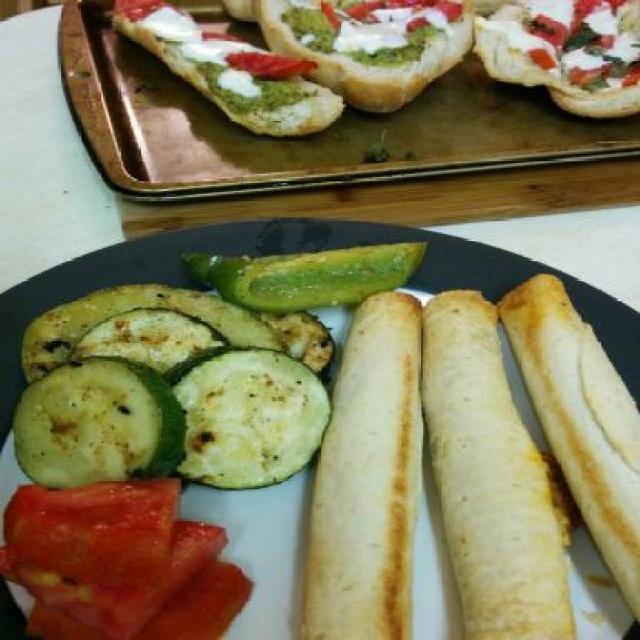Sandwich: (106, 0, 350, 138), (251, 0, 474, 118), (471, 0, 640, 117)
